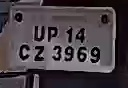1: (63, 25, 75, 44)
3: (50, 45, 63, 66)
4: (75, 27, 88, 44)
6: (75, 46, 89, 66)
9: (62, 46, 76, 64), (88, 46, 100, 66)
C: (16, 42, 33, 63)
P: (47, 25, 60, 43)
U: (32, 24, 46, 43)
Z: (31, 44, 48, 63)
